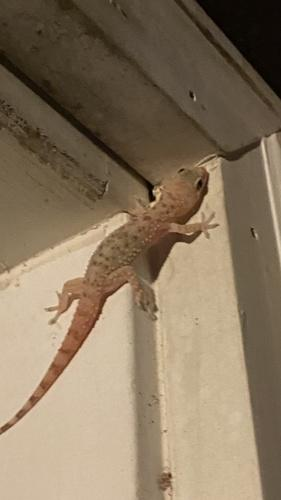lizard: (47, 163, 221, 369)
